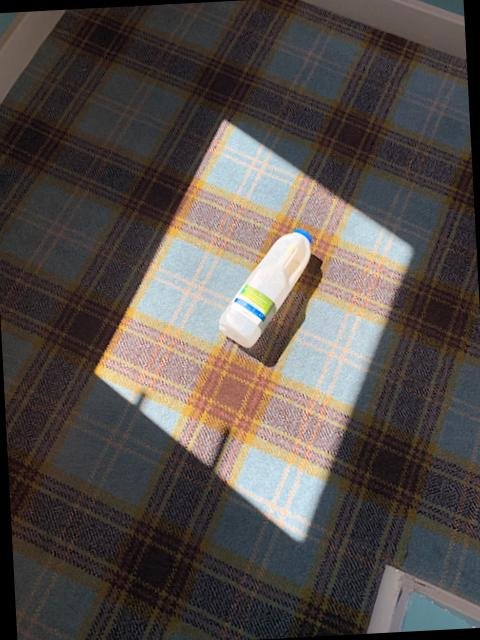plastic: (217, 227, 309, 345)
